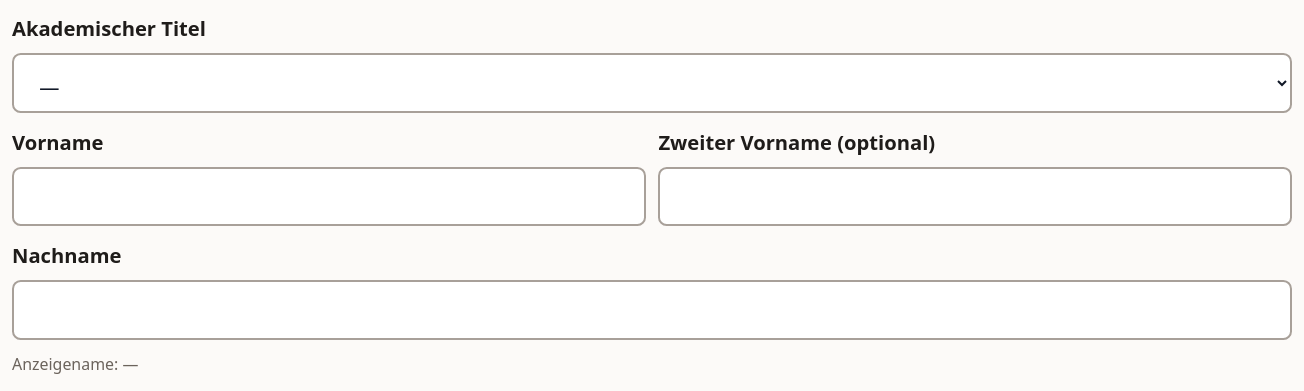
Scenario: NameFields › updates live preview when first and last name change
The width and height of the screenshot is (1304, 391).
Type "Max" into the field labelled "Vorname" at [329, 197], box x1=12 y1=167 x2=646 y2=226
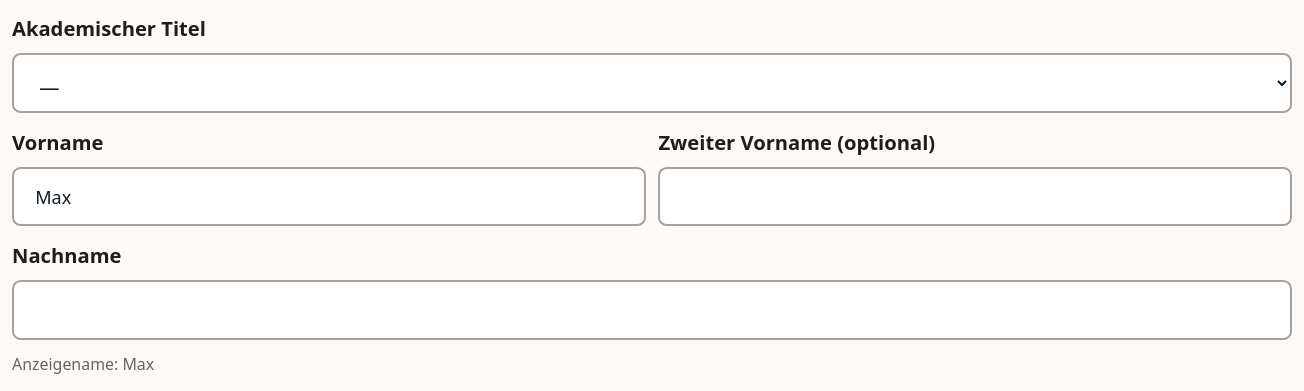
Type "Mustermann" into the field labelled "Nachname" at [652, 310], box x1=12 y1=280 x2=1292 y2=340
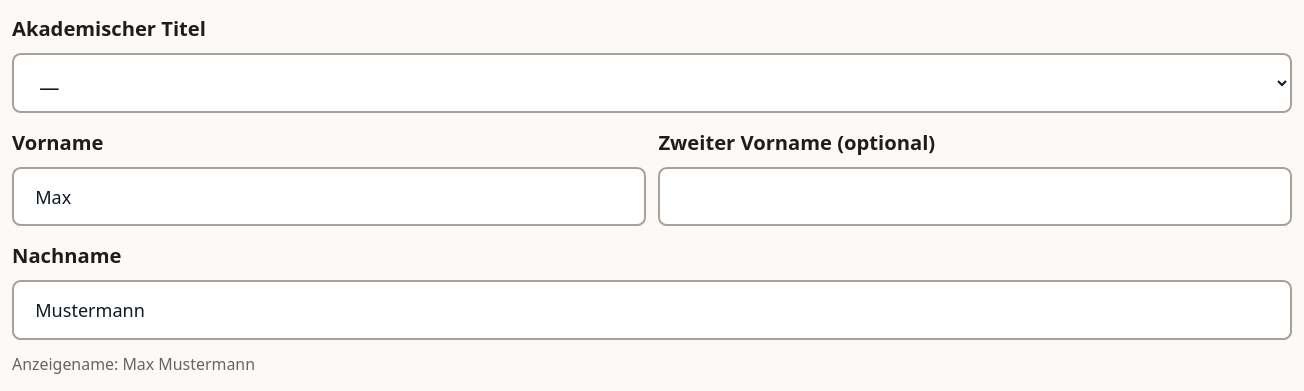
Now the text "Anzeigename: Max Mustermann" is shown, box x1=12 y1=353 x2=255 y2=375
